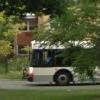Tree: (53, 5, 100, 76)
